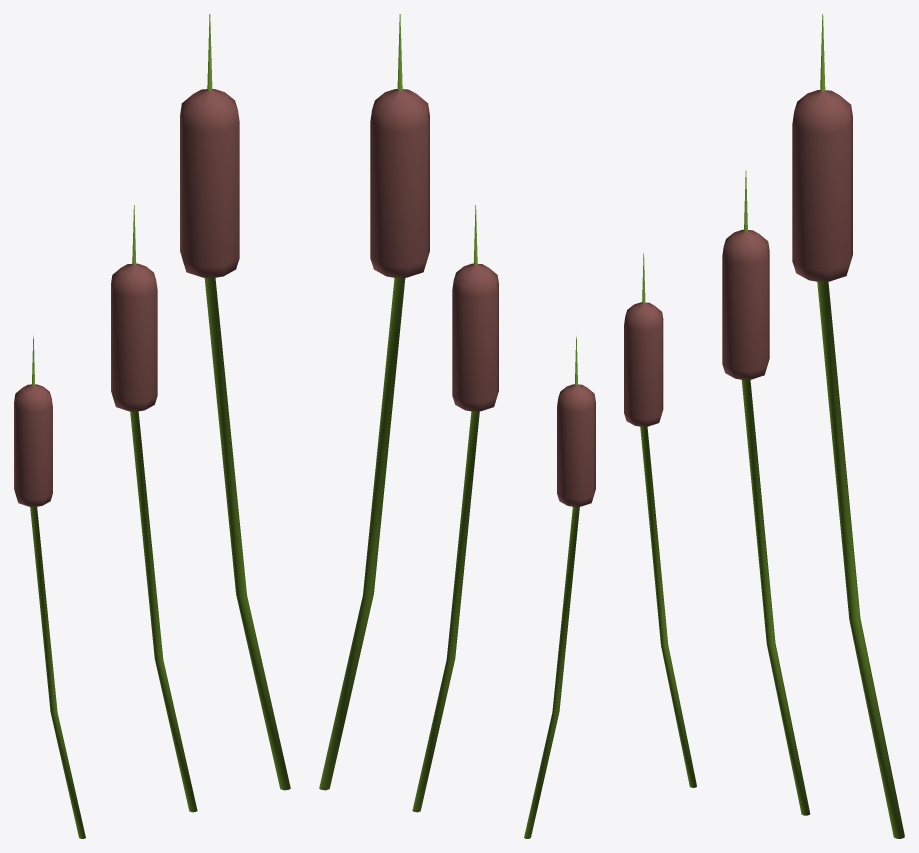
Rendered from JuncoMaior.fbx.
3 renders of one model, left to right at view 1: azimuth 30°, elevation 25°; view 2: azimuth 150°, elevation 25°; view 3: azimuth 330°, elevation 25°, orthographic.
Parts seen in each view (by area): view 1: Circle; view 2: Circle; view 3: Circle.
Boxes of the visible parts, x1,y1,x2,y2 form: Circle: (14,14,290,838); Circle: (319,14,595,838); Circle: (624,14,904,838).
Size of the model in its own units: 8.82 by 24.36 by 1.73.
